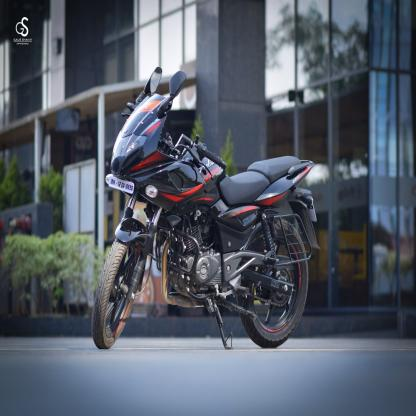bike: (88, 71, 317, 352)
